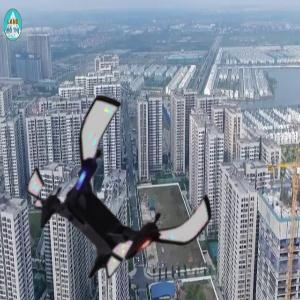drone: (28, 107, 215, 294)
